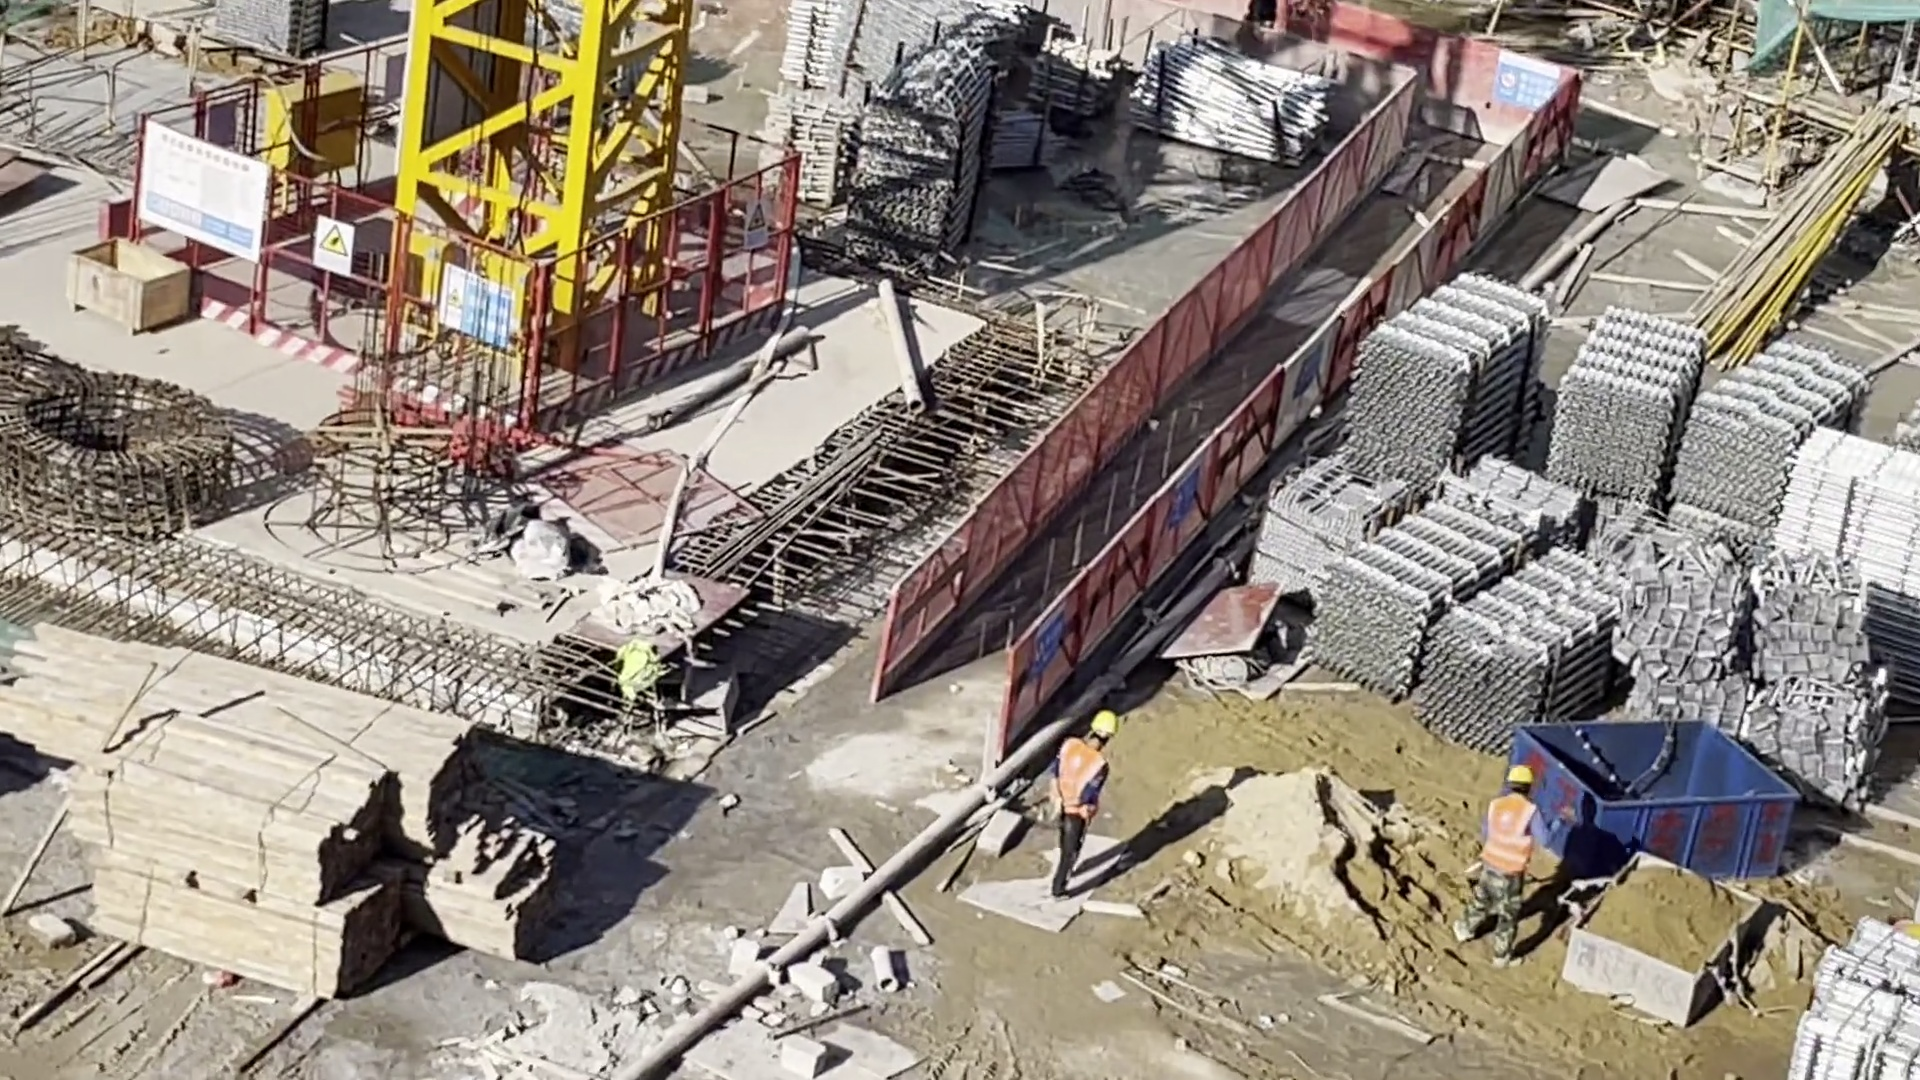ebox: (273, 81, 361, 185)
fence: (1013, 89, 1570, 766), (890, 74, 1411, 699), (1175, 1, 1569, 151)
helmet: (1507, 765, 1534, 785), (1094, 712, 1114, 736)
hopper: (1511, 716, 1802, 881), (1561, 845, 1766, 1023)
person: (1456, 768, 1551, 970), (1050, 712, 1115, 895)
scaffold: (1319, 504, 1525, 691), (1425, 549, 1611, 750), (1365, 277, 1536, 474), (1677, 343, 1870, 514), (1554, 311, 1706, 503), (1135, 38, 1333, 165), (867, 37, 985, 247), (1779, 429, 1920, 601), (1798, 924, 1920, 1075), (785, 4, 951, 73), (763, 87, 861, 197), (1028, 37, 1119, 126), (224, 1, 329, 53)
slogan: (443, 269, 516, 345), (1498, 50, 1559, 107), (1033, 604, 1061, 674), (315, 218, 352, 272), (1173, 465, 1200, 529), (747, 201, 770, 249)
vest: (1055, 743, 1105, 819), (1481, 797, 1531, 873)
wood: (12, 637, 474, 854), (85, 727, 402, 996)
